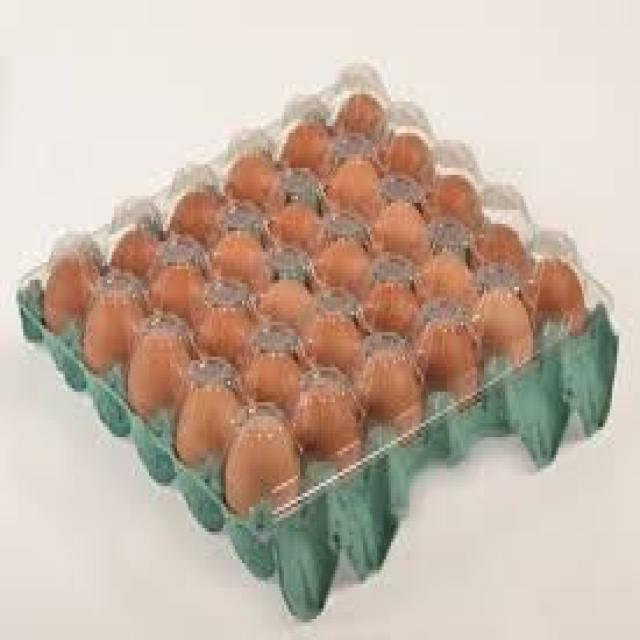Egg: (168, 362, 255, 492), (213, 416, 298, 535), (288, 276, 366, 380), (151, 168, 240, 252), (184, 282, 256, 376), (269, 358, 345, 446), (265, 100, 340, 184), (456, 278, 534, 358), (340, 319, 410, 407), (300, 207, 374, 288), (38, 247, 104, 336), (228, 323, 300, 403), (81, 286, 146, 368), (354, 182, 426, 252), (372, 122, 440, 194), (206, 210, 266, 291), (247, 249, 310, 323), (122, 333, 188, 402), (343, 238, 406, 310), (149, 254, 207, 329), (218, 145, 282, 210), (329, 83, 389, 148), (107, 226, 164, 294), (316, 148, 375, 211), (262, 180, 320, 244), (412, 308, 463, 378), (524, 261, 577, 327), (415, 238, 464, 306), (424, 161, 474, 212), (470, 216, 515, 272)
